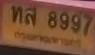letters: (25, 7, 38, 27), (11, 6, 23, 24), (71, 14, 81, 33), (59, 12, 69, 30), (48, 11, 57, 29)
province: (14, 32, 81, 49)
